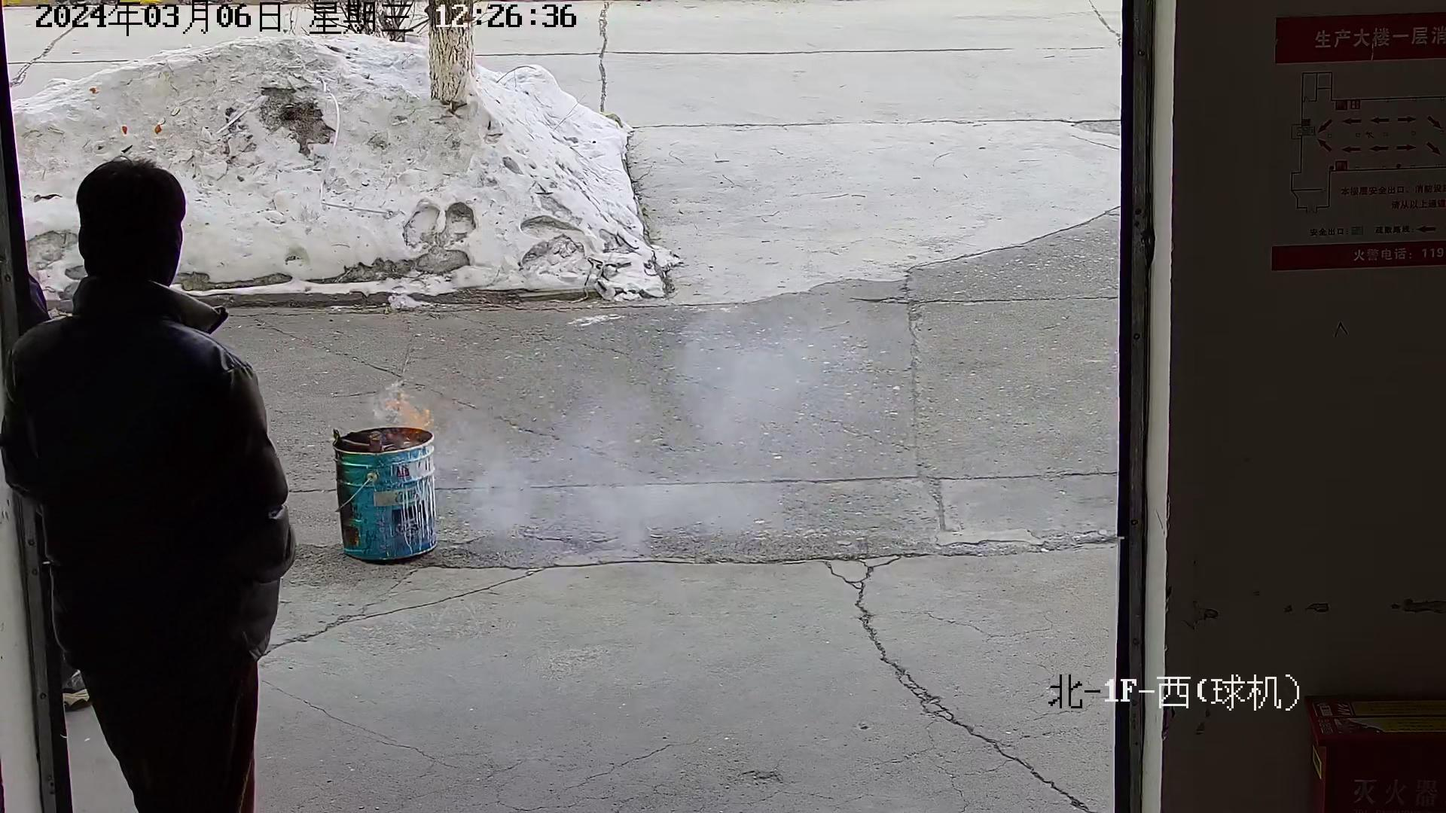fire: (374, 390, 432, 449)
